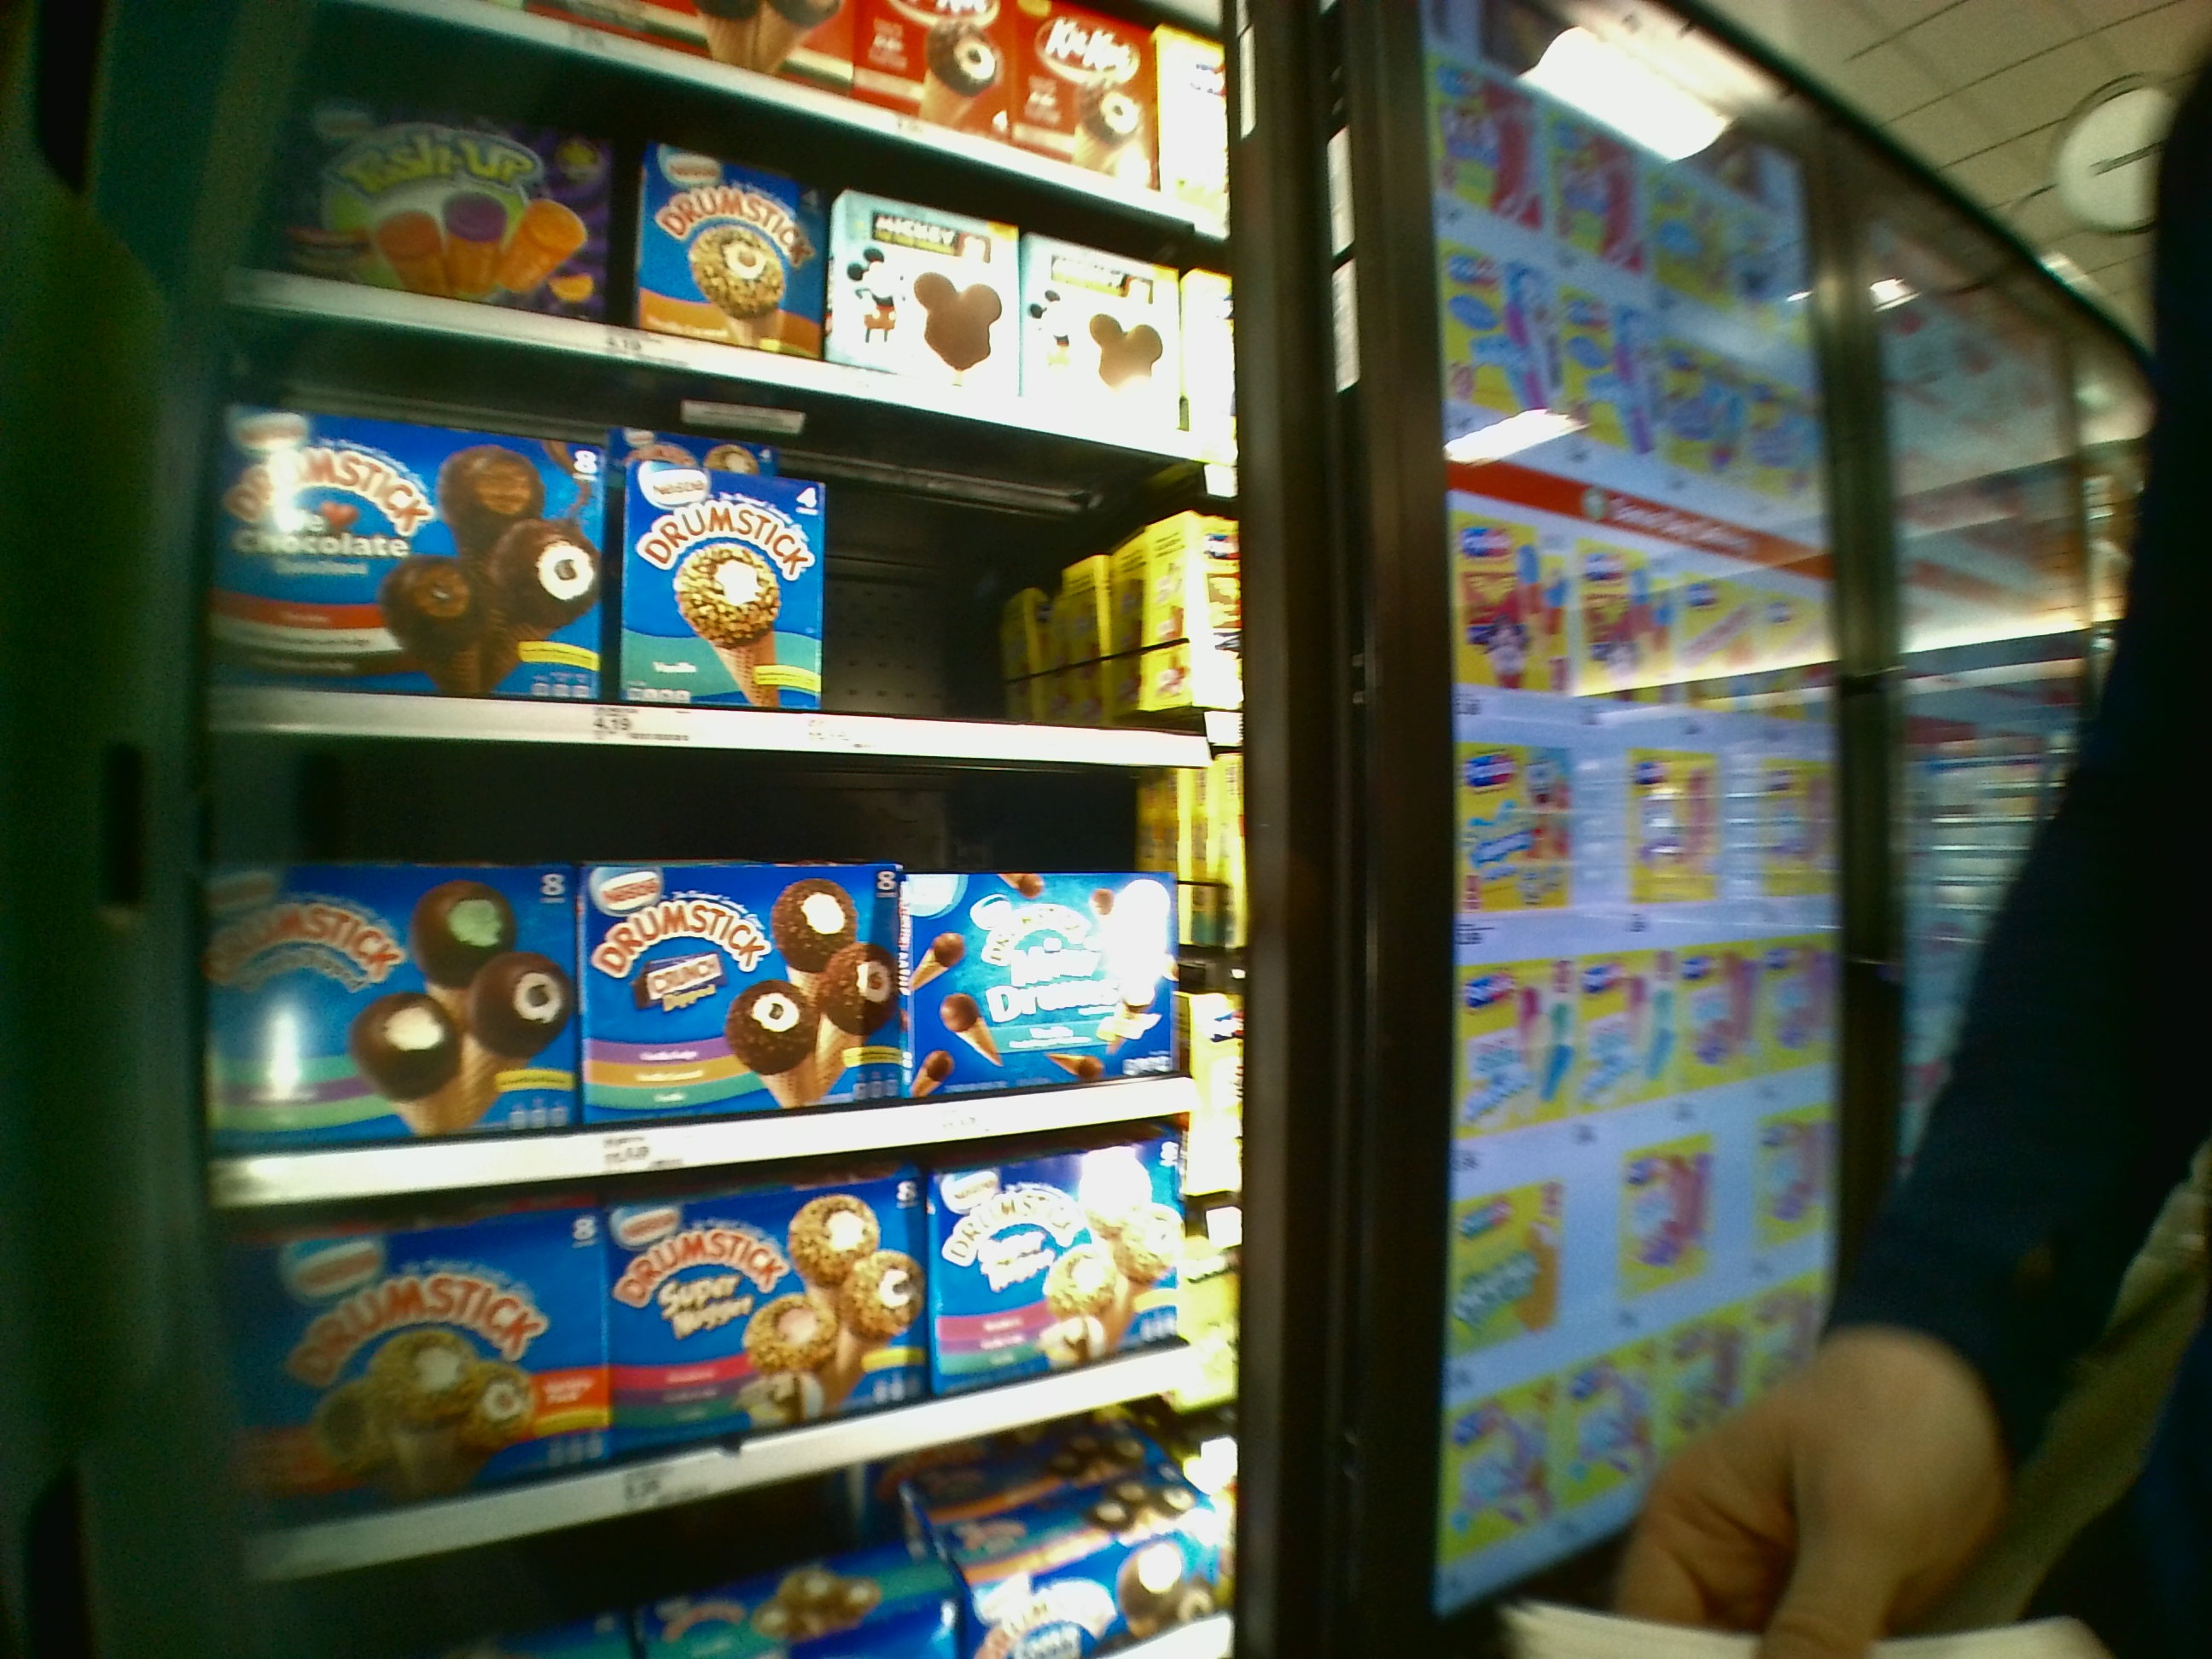shelf: (207, 742, 1237, 1161), (207, 415, 1224, 772), (212, 1143, 1228, 1495)
